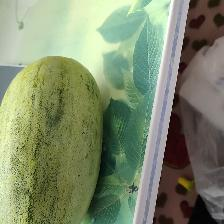gua: (15, 76, 91, 215)
